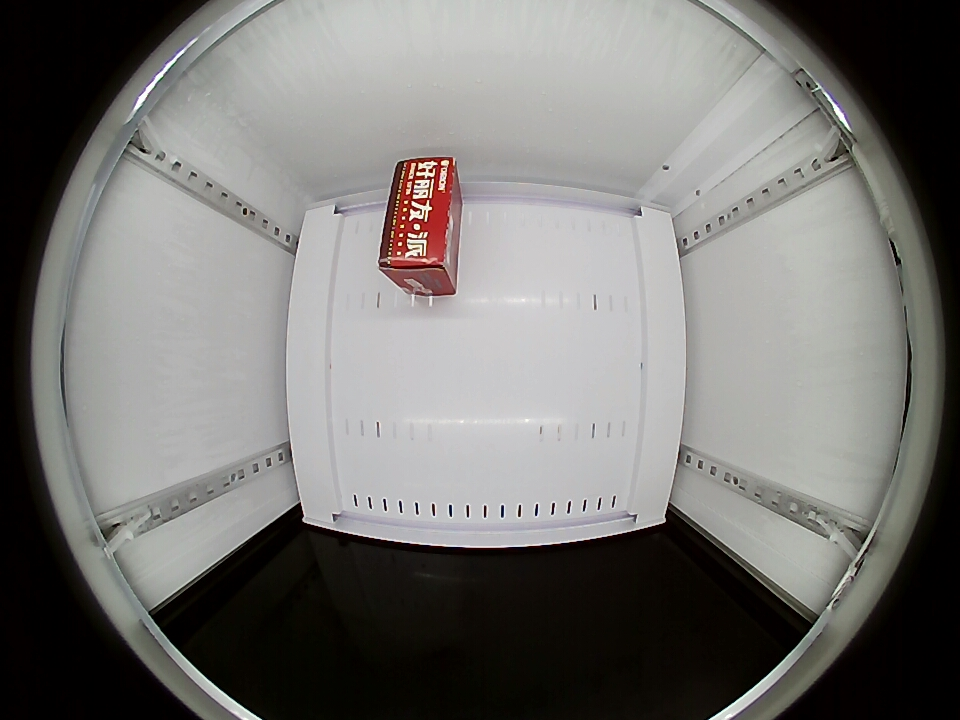haoliyou: (378, 155, 460, 291)
